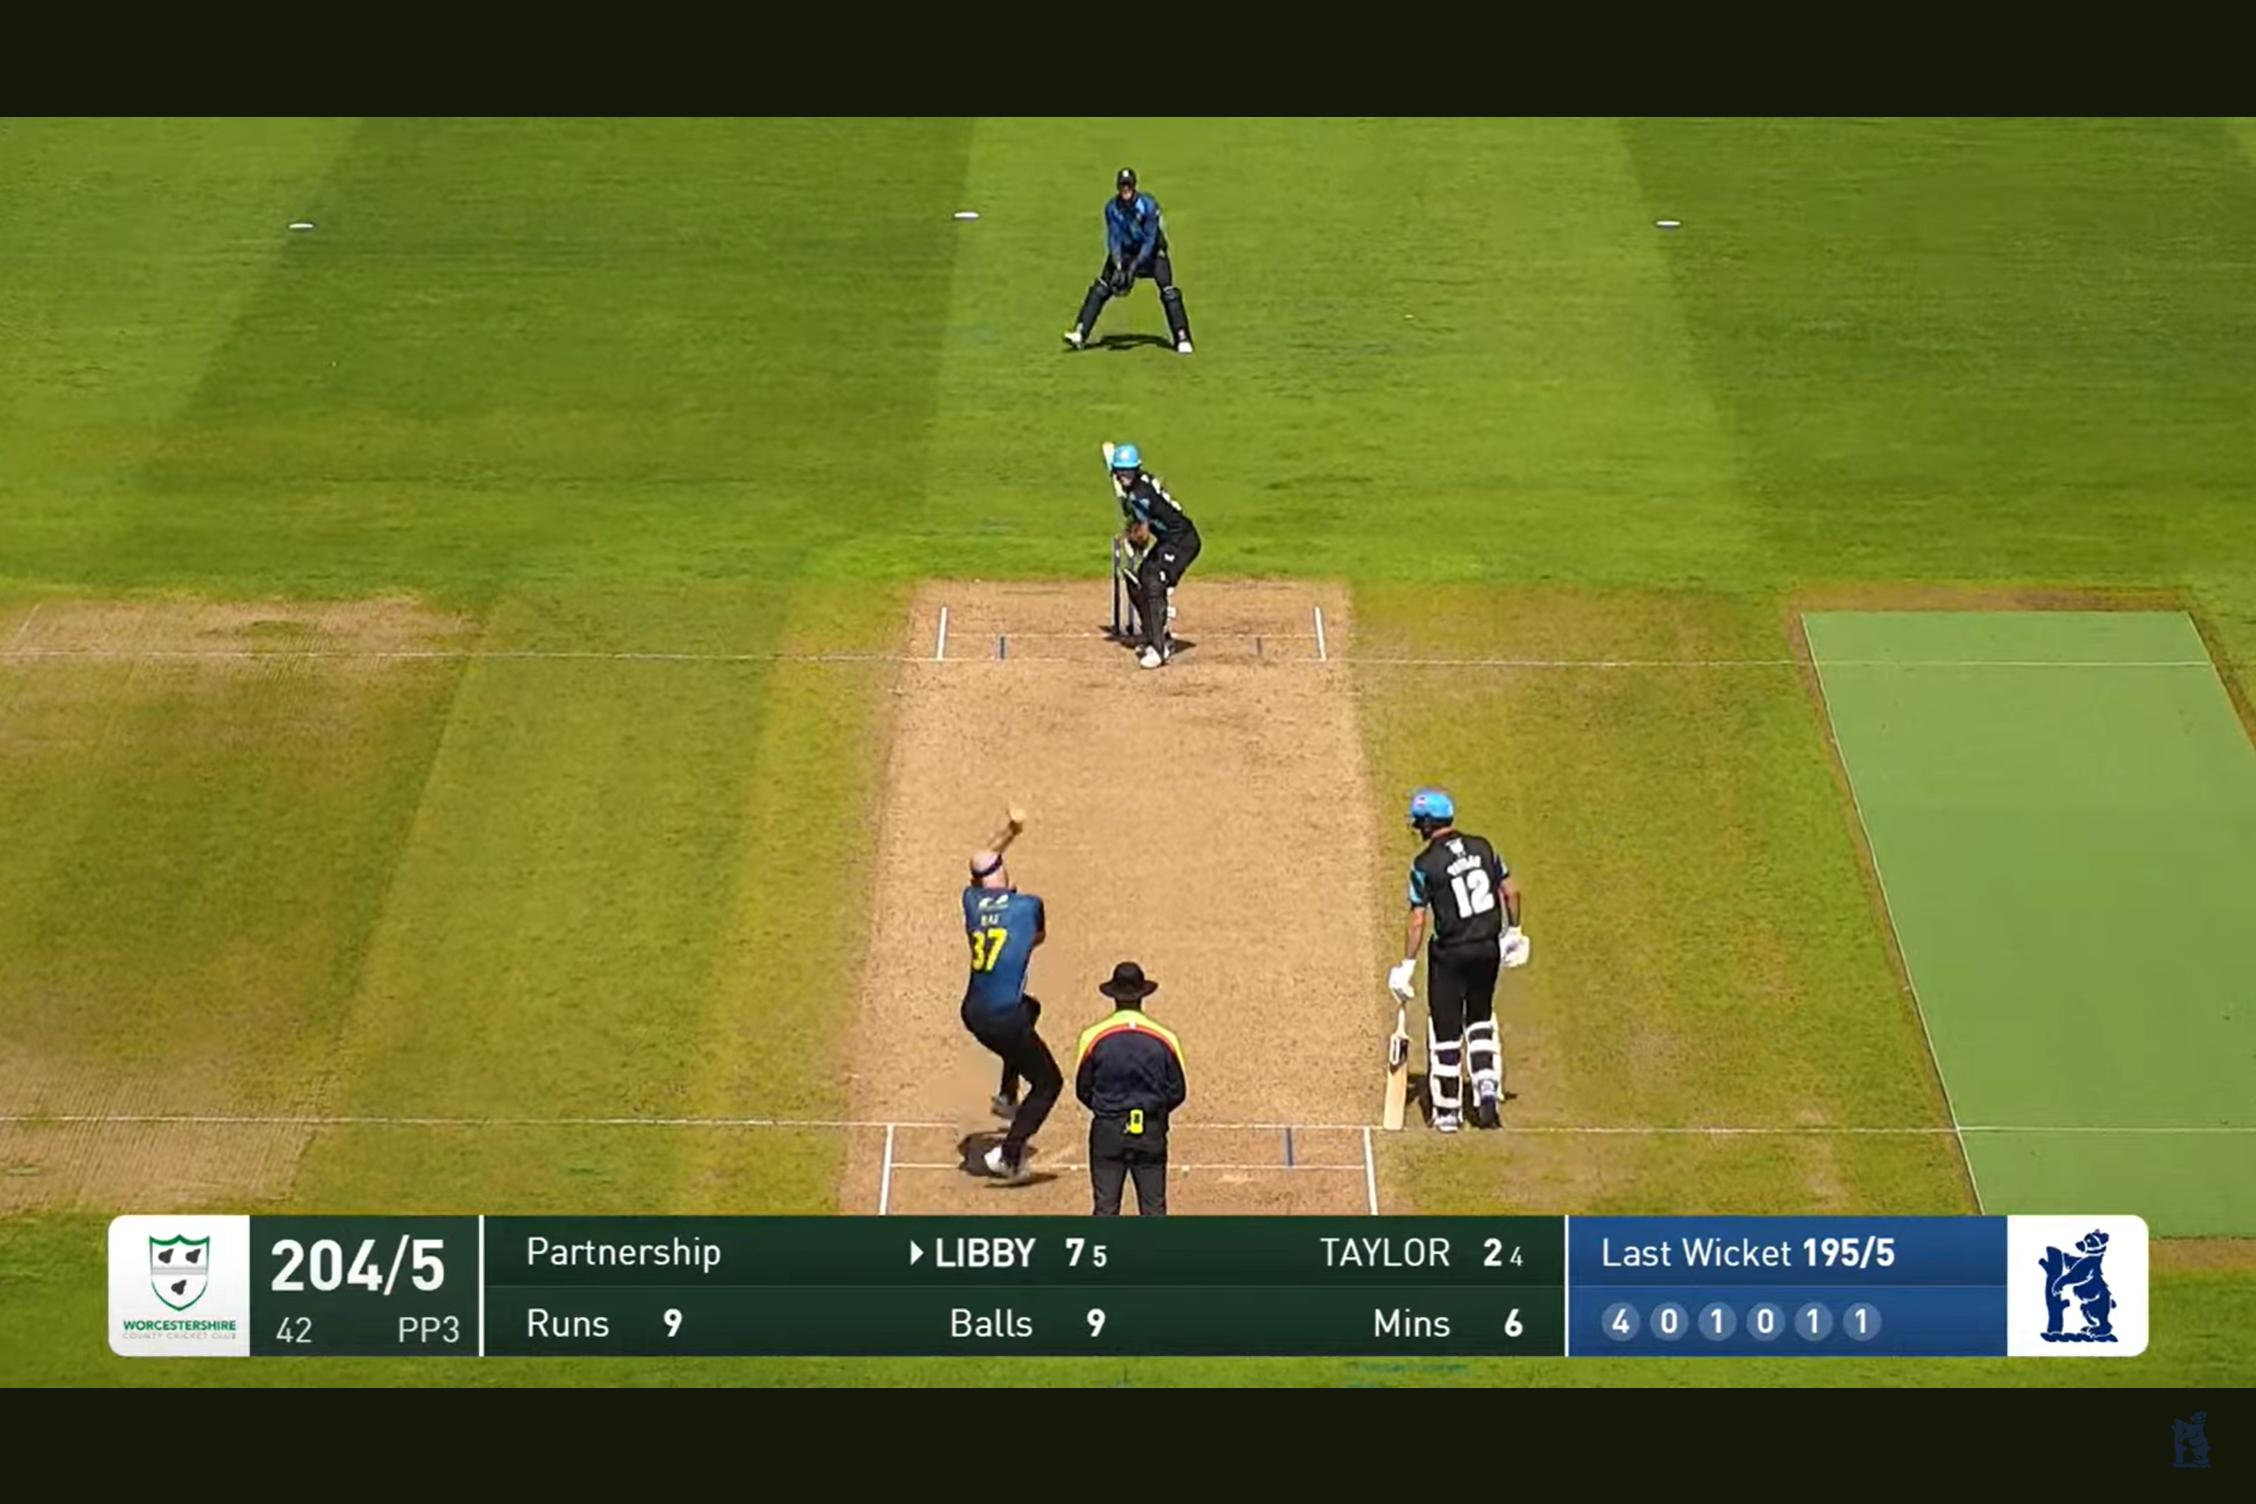bowler running in: (916, 806, 1078, 1193)
wicket keeper: (1026, 161, 1220, 359)
